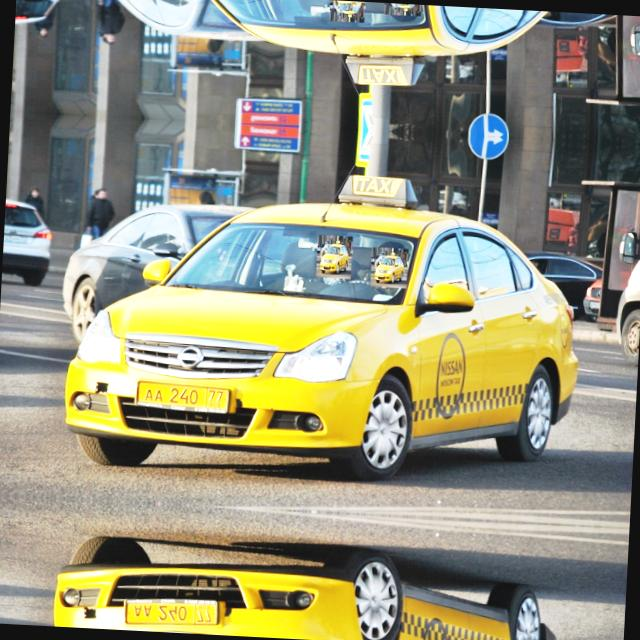taxi: (132, 378, 235, 416), (120, 594, 223, 632)
